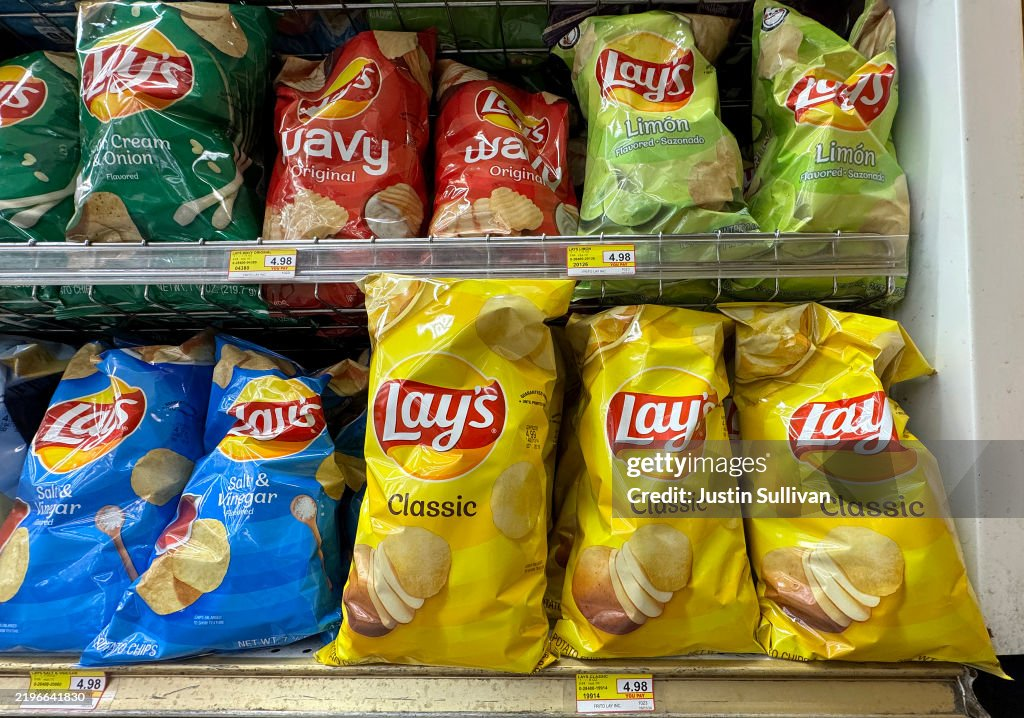snacks: (68, 336, 376, 664), (330, 266, 568, 673), (66, 2, 268, 246), (550, 22, 756, 240), (430, 58, 568, 235)
